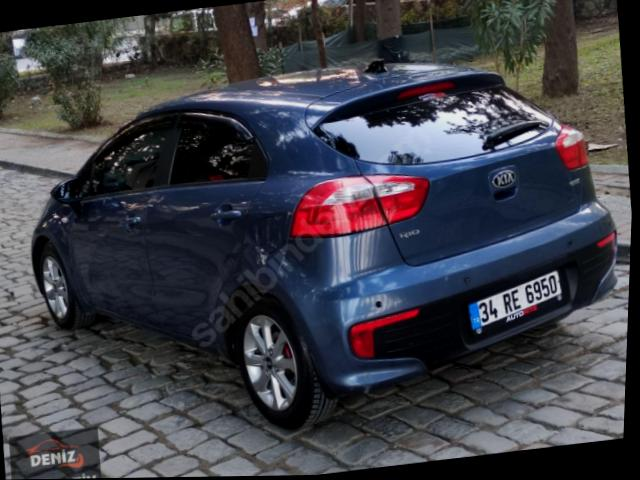plaka: (468, 270, 562, 333)
